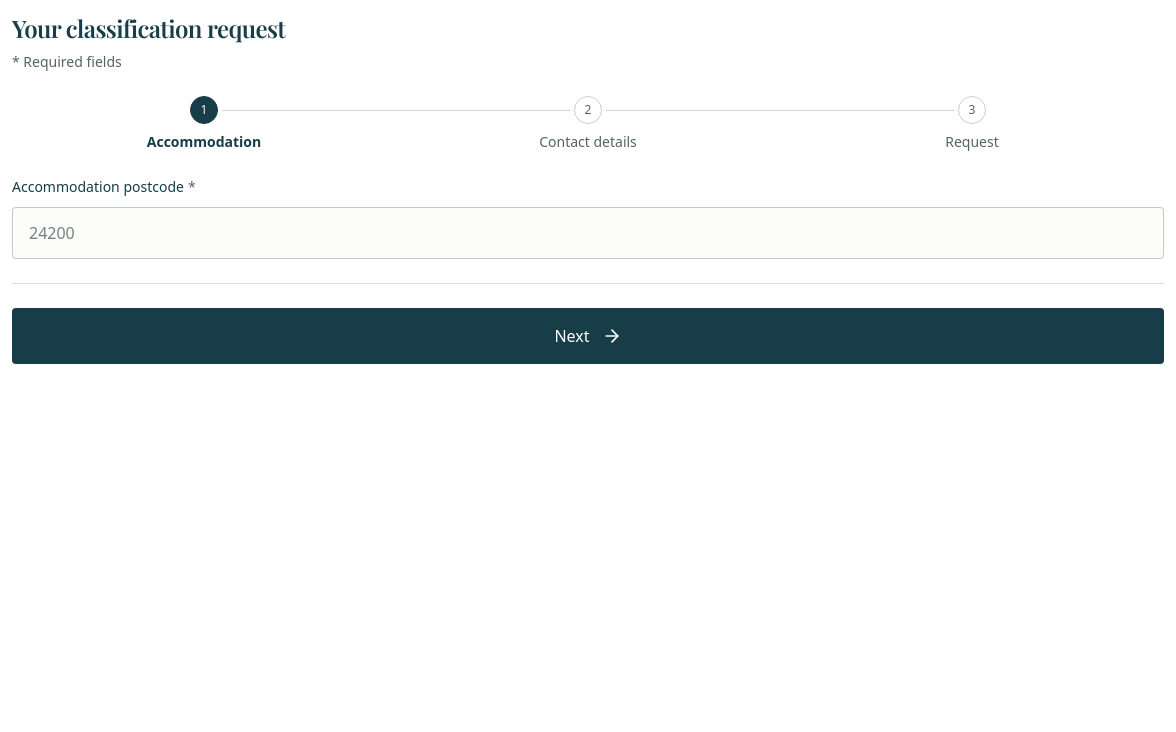
Test: étape Logement › auto-selects and displays a single commune: en
Type "24150" into the field labelled "Accommodation postcode*".
click(588, 233); type("24150")  # box [12, 207, 1164, 259]
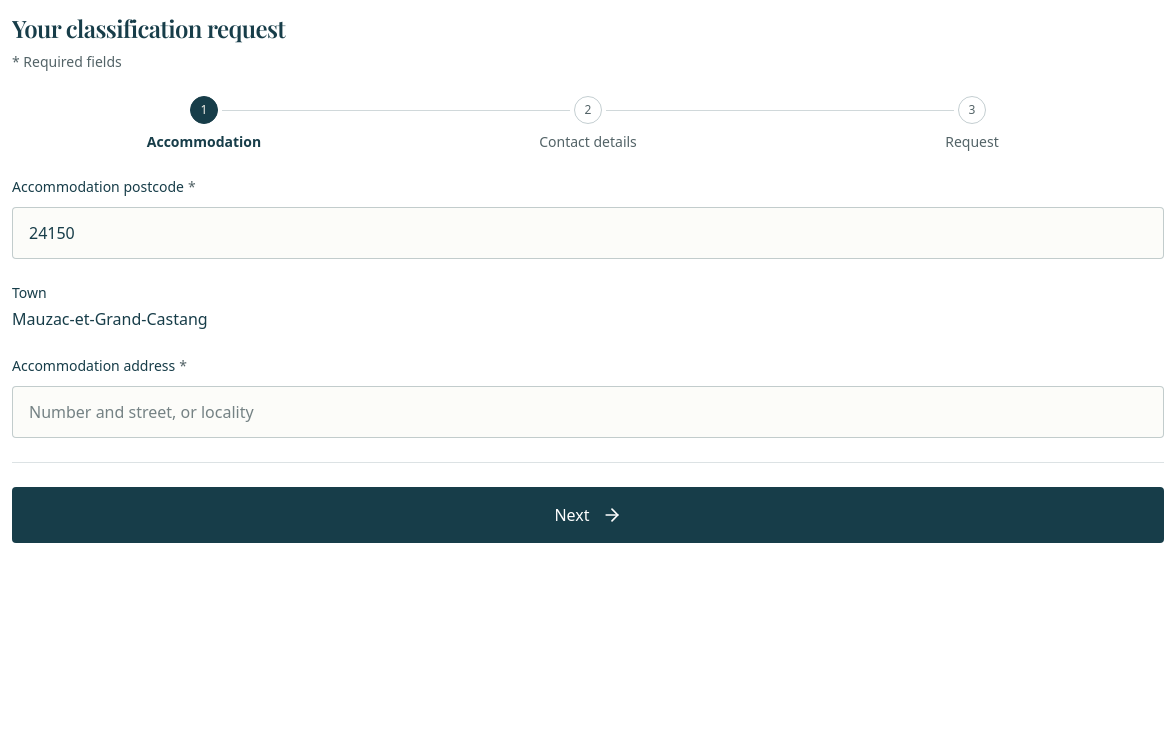
Result: the text "Mauzac-et-Grand-Castang" is shown at [12, 308, 208, 330]
